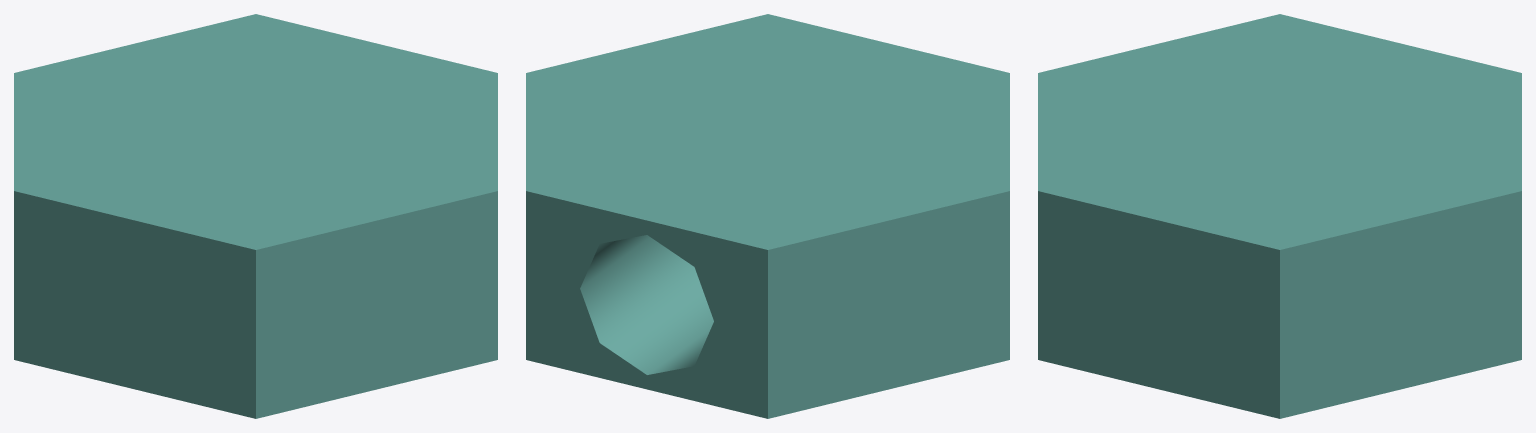
File: MarbleSpawn.glb
The picture shows the model from 3 angles, left to right: view 1: azimuth 30°, elevation 25°; view 2: azimuth 150°, elevation 25°; view 3: azimuth 270°, elevation 25°; orthographic projection.
Parts seen in each view (by area): view 1: MarbleSpawn-col; view 2: MarbleSpawn-col; view 3: MarbleSpawn-col.
Boxes of the visible parts, left/top/right/bottom form: MarbleSpawn-col: left=14, top=14, right=497, bottom=418; MarbleSpawn-col: left=526, top=14, right=1009, bottom=418; MarbleSpawn-col: left=1038, top=14, right=1521, bottom=418.
Size of the model in its own units: 1.73 by 0.578 by 1.5.
